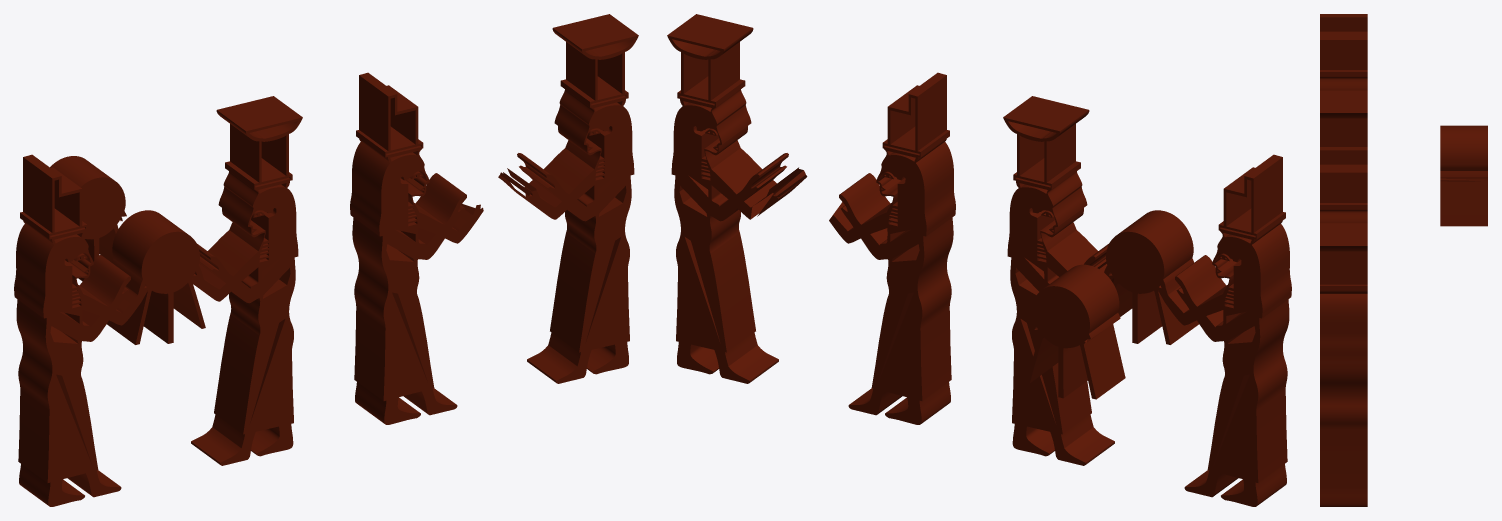
The model's file is estatuas_bastet.FBX.
The picture shows the model from 3 angles, left to right: view 1: azimuth 30°, elevation 25°; view 2: azimuth 150°, elevation 25°; view 3: azimuth 270°, elevation 25°; orthographic projection. The views are drawn at different scales.
Parts seen in each view (by area): view 1: TextPlus002, TextPlus001, Object001; view 2: TextPlus002, TextPlus001, Object001; view 3: TextPlus001, TextPlus002, Object001.
Part boxes in pixels (x1=…): TextPlus002: x1=14, y1=96, x2=302, y2=506; TextPlus001: x1=350, y1=14, x2=638, y2=424; Object001: x1=50, y1=156, x2=126, y2=281; TextPlus002: x1=1003, y1=96, x2=1291, y2=506; TextPlus001: x1=667, y1=14, x2=955, y2=424; Object001: x1=1026, y1=264, x2=1125, y2=399; TextPlus001: x1=1320, y1=147, x2=1367, y2=506; TextPlus002: x1=1320, y1=14, x2=1367, y2=146; Object001: x1=1440, y1=125, x2=1487, y2=226.
Bounding box in the file's own units: 101 × 53.33 × 30.41.
